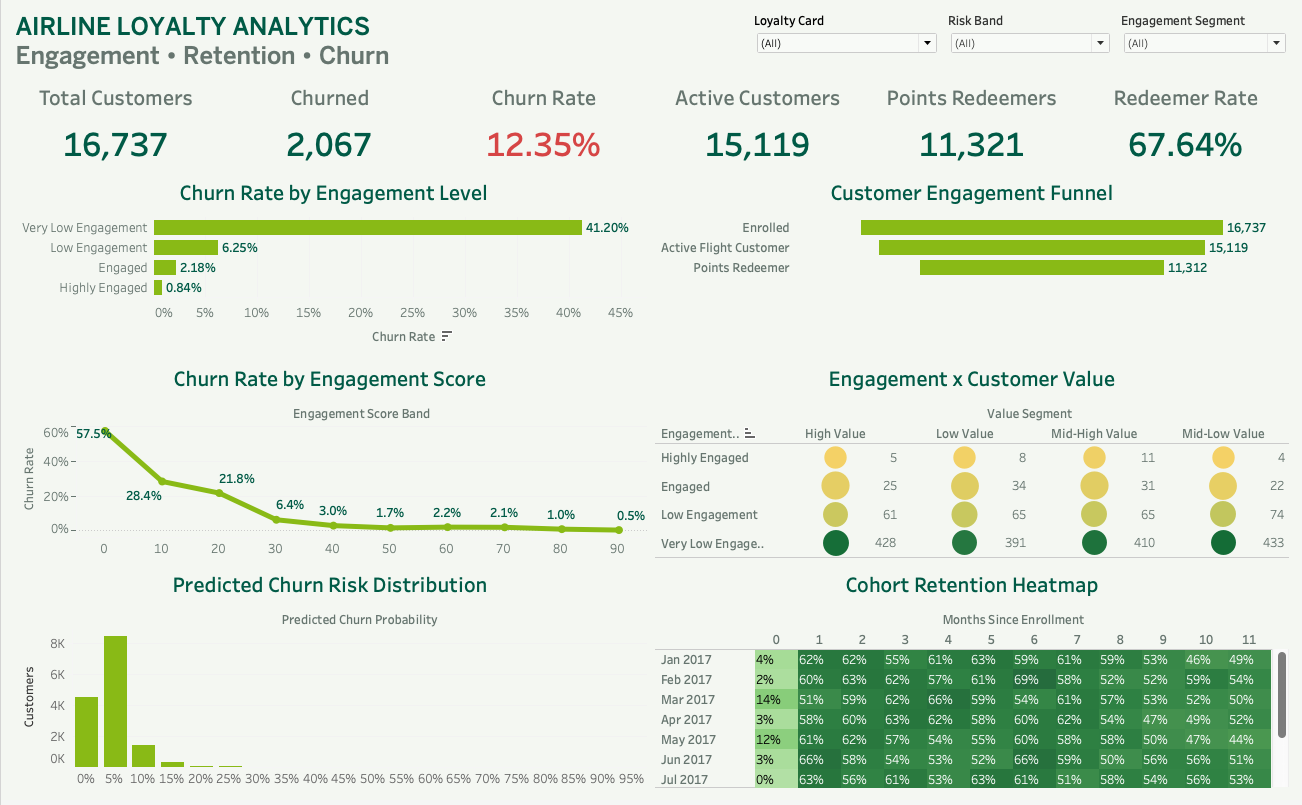

Layout of this report page (visuals, bound fields, positions):
{"tool":"tableau","page":{"name":"Dashboard 1","canvas":[1300,800],"ordinal":0},"visuals":[{"type":"text","box":[8,8,741,67]},{"type":"filter","title":"Customer Risk Profile","param":"[federated.0n9a5py125rtjk0zsdld10ar018k].[none:loyalty_card:nk]","box":[749,8,194,67]},{"type":"filter","title":"Churn Risk Distribution","param":"[federated.0n9a5py125rtjk0zsdld10ar018k].[none:risk_band:nk]","box":[943,8,173,67]},{"type":"filter","title":"Churn by Engagement","param":"[Clipboard_20260911T220321].[none:engagement_segment:nk]","box":[1116,8,176,67]},{"type":"worksheet","title":"KPI - Total Customers","mark":"Automatic","box":[8,75,214,95]},{"type":"worksheet","title":"KPI - Churned","mark":"Automatic","box":[222,75,214,95]},{"type":"worksheet","title":"KPI - Churn Rate","mark":"Automatic","box":[436,75,214,95]},{"type":"worksheet","title":"KPI - Active Customers","mark":"Automatic","box":[650,75,214,95]},{"type":"worksheet","title":"KPI - Points Redeemers","mark":"Automatic","box":[864,75,214,95]},{"type":"worksheet","title":"KPI - Redeemer Rate","mark":"Automatic","box":[1078,75,214,95]},{"type":"worksheet","title":"Churn by Engagement","mark":"Automatic","rows":["engagement_segment"],"cols":["Calculation_3046928230916097"],"box":[8,170,642,186]},{"type":"worksheet","title":"Customer Engagement Funnel","mark":"Bar","rows":["stage"],"cols":["Calculation_3046928465952772","Calculation_3046928466087941"],"box":[650,170,642,186]},{"type":"worksheet","title":"Churn Rate by Engagement Score","mark":"Line","rows":["Calculation_3046928230416384"],"cols":["Engagement Score (bin)"],"box":[8,356,642,206]},{"type":"worksheet","title":"Customer Risk Profile","mark":"Circle","rows":["engagement_segment"],"cols":["value_segment"],"box":[650,356,642,206]},{"type":"worksheet","title":"Churn Risk Distribution","mark":"Automatic","rows":["customer_id"],"cols":["Churn Probability (bin)"],"box":[8,562,642,230]},{"type":"worksheet","title":"Cohort Retention Heatmap","mark":"Square","rows":["cohort_month"],"cols":["months_since_cohort"],"box":[650,562,642,230]}]}

Visuals, with their boxes in screenshot pixels (x1, y1, x2, y2), scaled from the page's 1300x800 canvas onto the 1302x805 screenshot:
text: x1=8 y1=8 x2=750 y2=75
"Customer Risk Profile" filter: x1=750 y1=8 x2=944 y2=75
"Churn Risk Distribution" filter: x1=944 y1=8 x2=1118 y2=75
"Churn by Engagement" filter: x1=1118 y1=8 x2=1294 y2=75
"KPI - Total Customers" worksheet: x1=8 y1=75 x2=222 y2=171
"KPI - Churned" worksheet: x1=222 y1=75 x2=437 y2=171
"KPI - Churn Rate" worksheet: x1=437 y1=75 x2=651 y2=171
"KPI - Active Customers" worksheet: x1=651 y1=75 x2=865 y2=171
"KPI - Points Redeemers" worksheet: x1=865 y1=75 x2=1080 y2=171
"KPI - Redeemer Rate" worksheet: x1=1080 y1=75 x2=1294 y2=171
"Churn by Engagement" worksheet: x1=8 y1=171 x2=651 y2=358
"Customer Engagement Funnel" worksheet (Bar marks): x1=651 y1=171 x2=1294 y2=358
"Churn Rate by Engagement Score" worksheet (Line marks): x1=8 y1=358 x2=651 y2=566
"Customer Risk Profile" worksheet (Circle marks): x1=651 y1=358 x2=1294 y2=566
"Churn Risk Distribution" worksheet: x1=8 y1=566 x2=651 y2=797
"Cohort Retention Heatmap" worksheet (Square marks): x1=651 y1=566 x2=1294 y2=797
